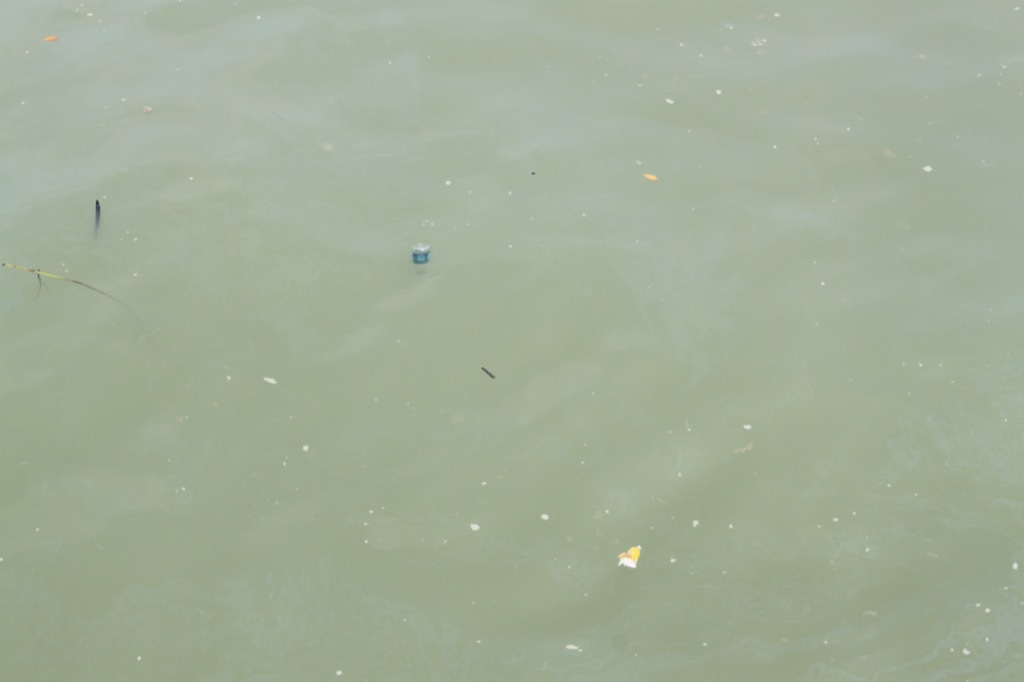organic: (1, 256, 181, 353), (83, 187, 118, 253), (472, 358, 509, 391), (29, 28, 69, 52), (634, 166, 671, 187), (515, 162, 550, 182), (131, 102, 162, 118)
plastic: (398, 232, 443, 282), (609, 538, 646, 579)
